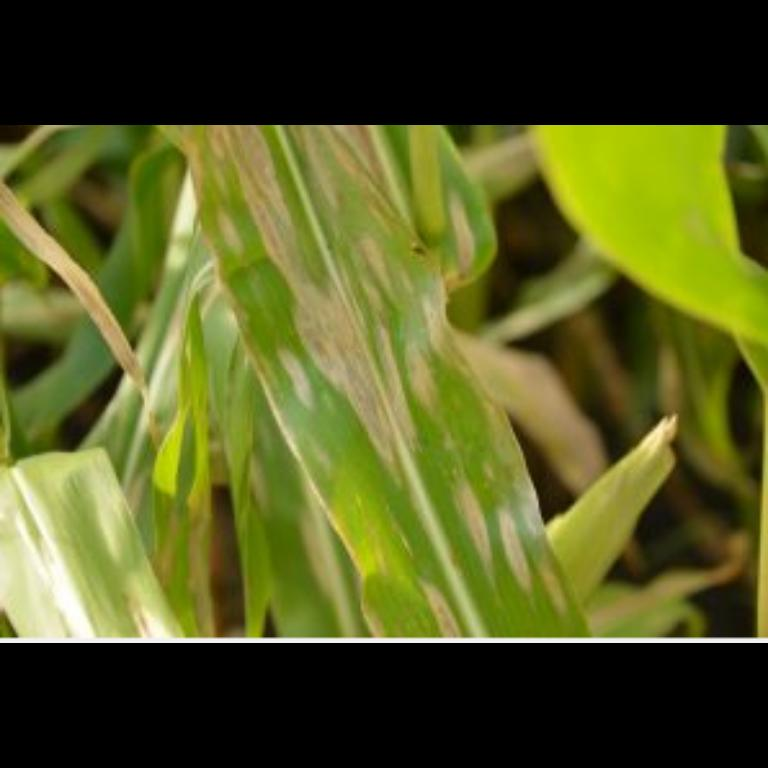blight: (230, 134, 398, 378)
